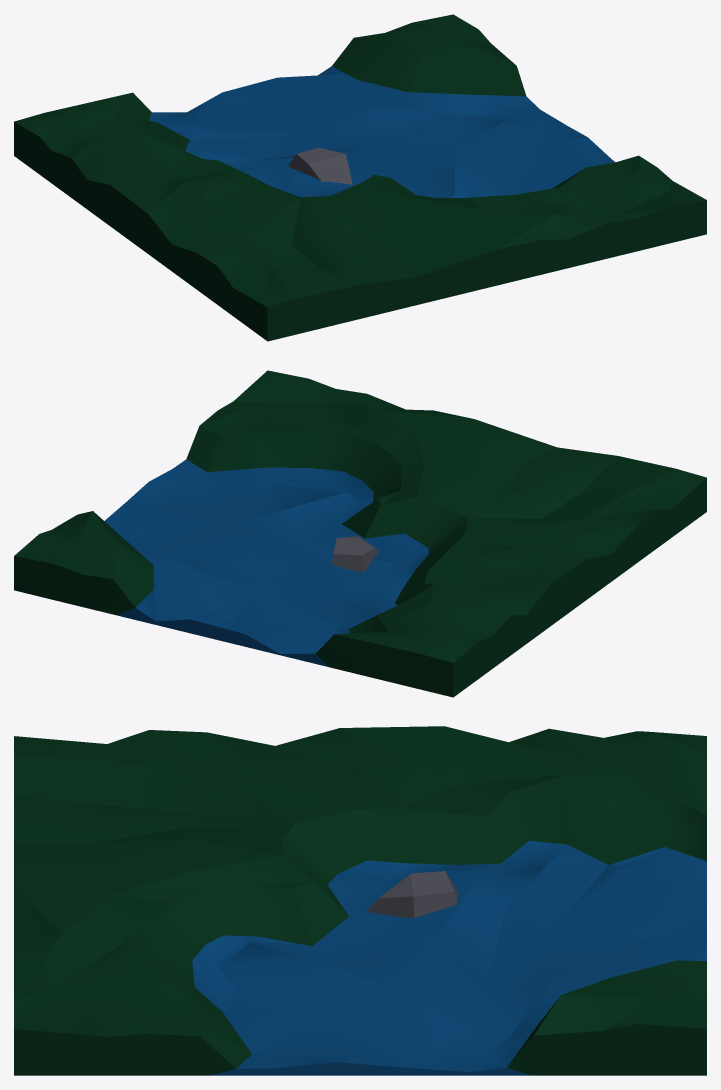
Rendered from Water_Turn_LB.fbx.
3 renders of one model, top to bottom at view 1: azimuth 30°, elevation 25°; view 2: azimuth 150°, elevation 25°; view 3: azimuth 270°, elevation 25°, orthographic. The views are drawn at different scales.
Visible parts, largest first — view 1: Water_Turn_LB; view 2: Water_Turn_LB; view 3: Water_Turn_LB.
Part boxes in pixels (bbox=[...]): Water_Turn_LB: bbox=[14, 14, 706, 341]; Water_Turn_LB: bbox=[14, 370, 706, 697]; Water_Turn_LB: bbox=[14, 726, 706, 1075].
Size of the model in its own units: 147 by 14.83 by 147.
